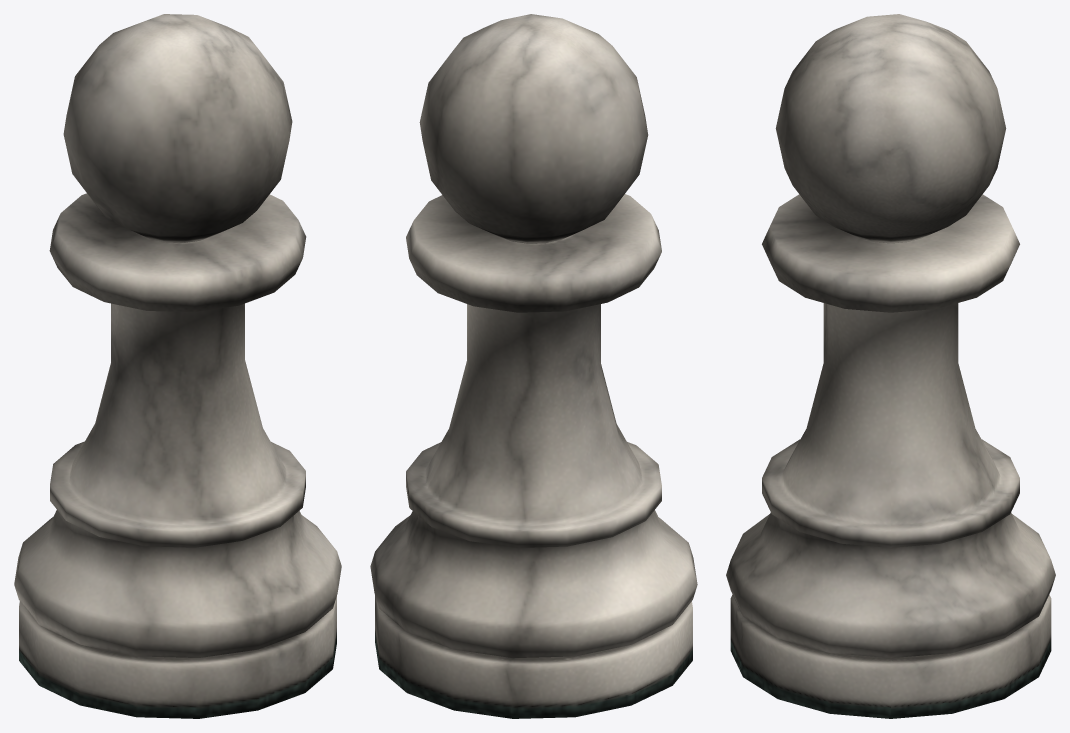
The model's file is ChessPieces_Pawn_White.gltf.
3 renders of one model, left to right at view 1: azimuth 30°, elevation 25°; view 2: azimuth 150°, elevation 25°; view 3: azimuth 270°, elevation 25°, orthographic.
Visible parts, largest first — view 1: ChessPieces_Pawn_White; view 2: ChessPieces_Pawn_White; view 3: ChessPieces_Pawn_White.
Part boxes in pixels (x1,y1,x2,y2): ChessPieces_Pawn_White: (14, 14, 341, 718); ChessPieces_Pawn_White: (370, 14, 697, 718); ChessPieces_Pawn_White: (726, 14, 1055, 718).
Size of the model in its own units: 0.0221 by 0.0463 by 0.0221.
Materials: 1 (1 with a texture image).
